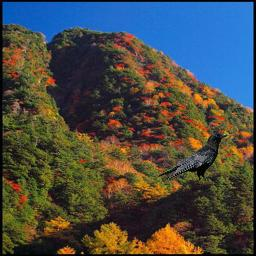Crow: (158, 133, 228, 182)
